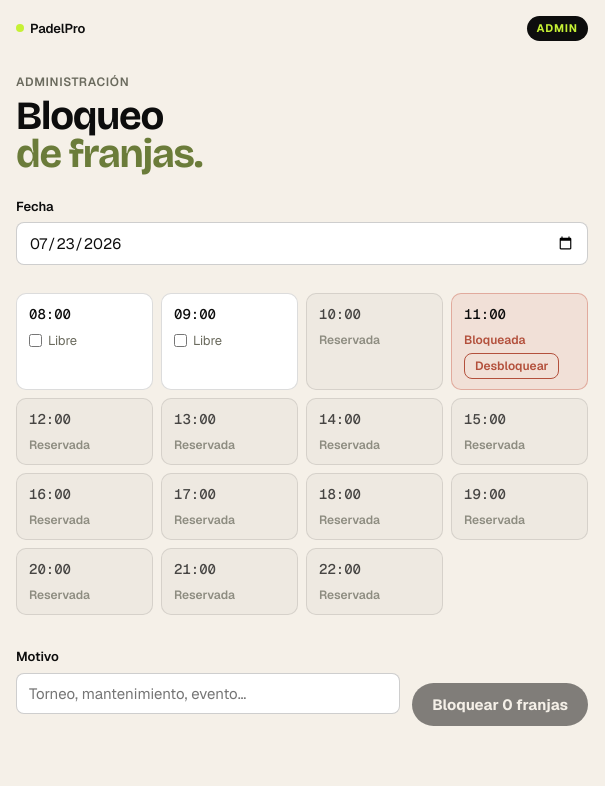
Test: BloqueosPage › avisa cuando el backend responde conflicto (409)
Expected: the text "09:00" is shown, [174,305,216,323]
Step 1. Click the checkbox labelled "Libre" below "09:00" → (180, 341), box [174,334,187,347]
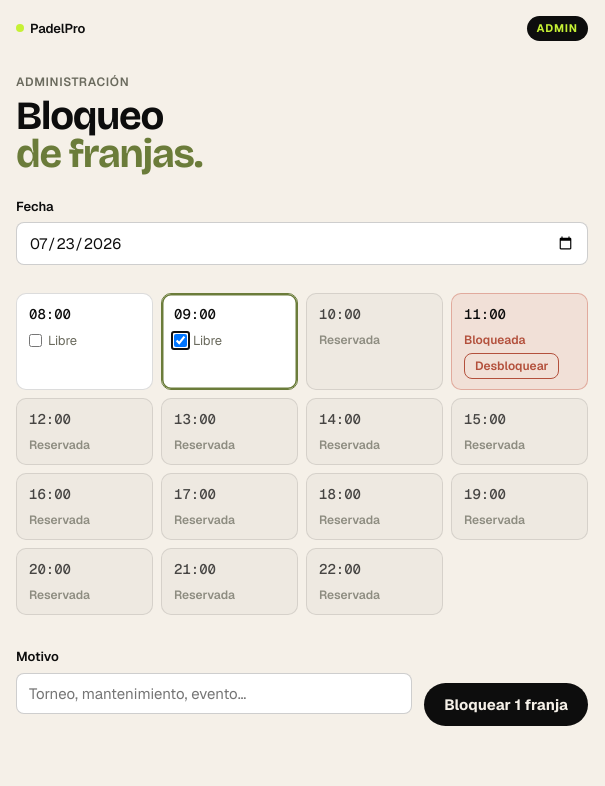
Step 2. Type "Torneo" into the field labelled "Motivo" → (214, 693), box [16,672,412,714]
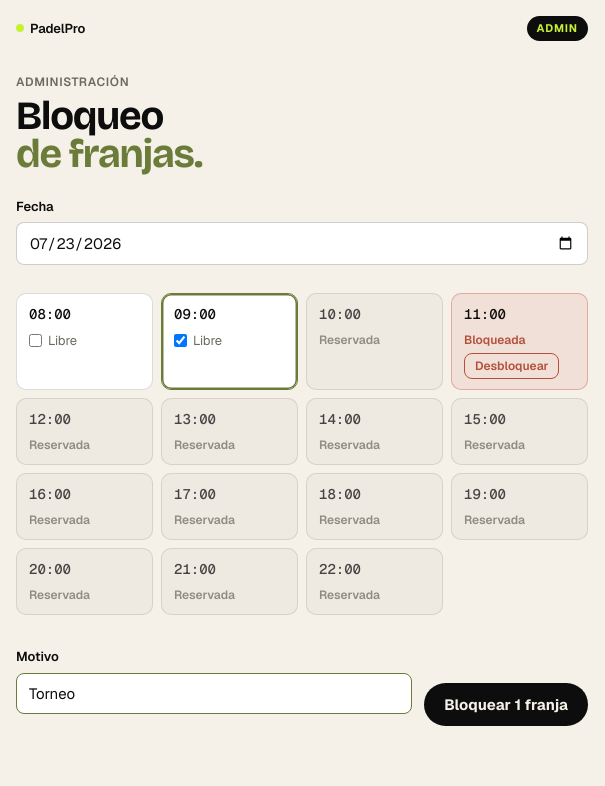
Step 3. Click the button "Bloquear 1 franja" → (506, 704), box [424,682,588,726]
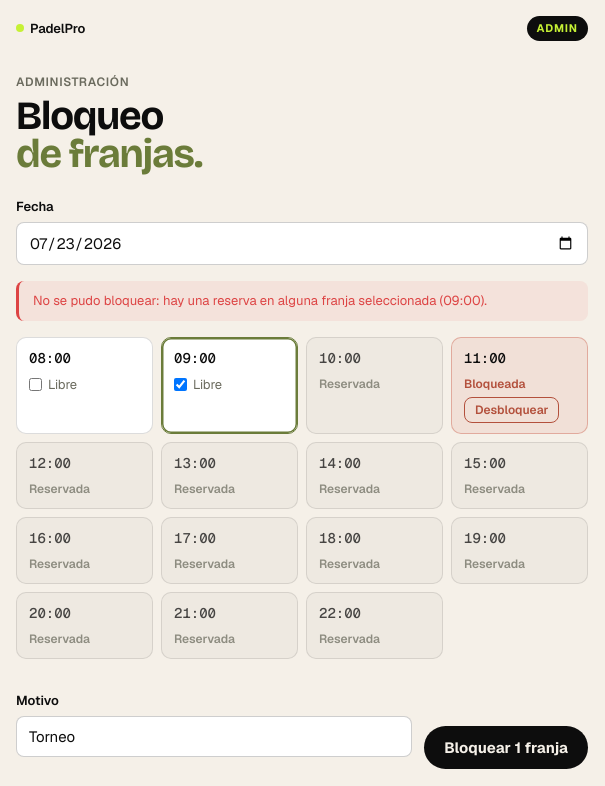
Now the message shows "reserva en alguna franja", box [33,292,487,309]
